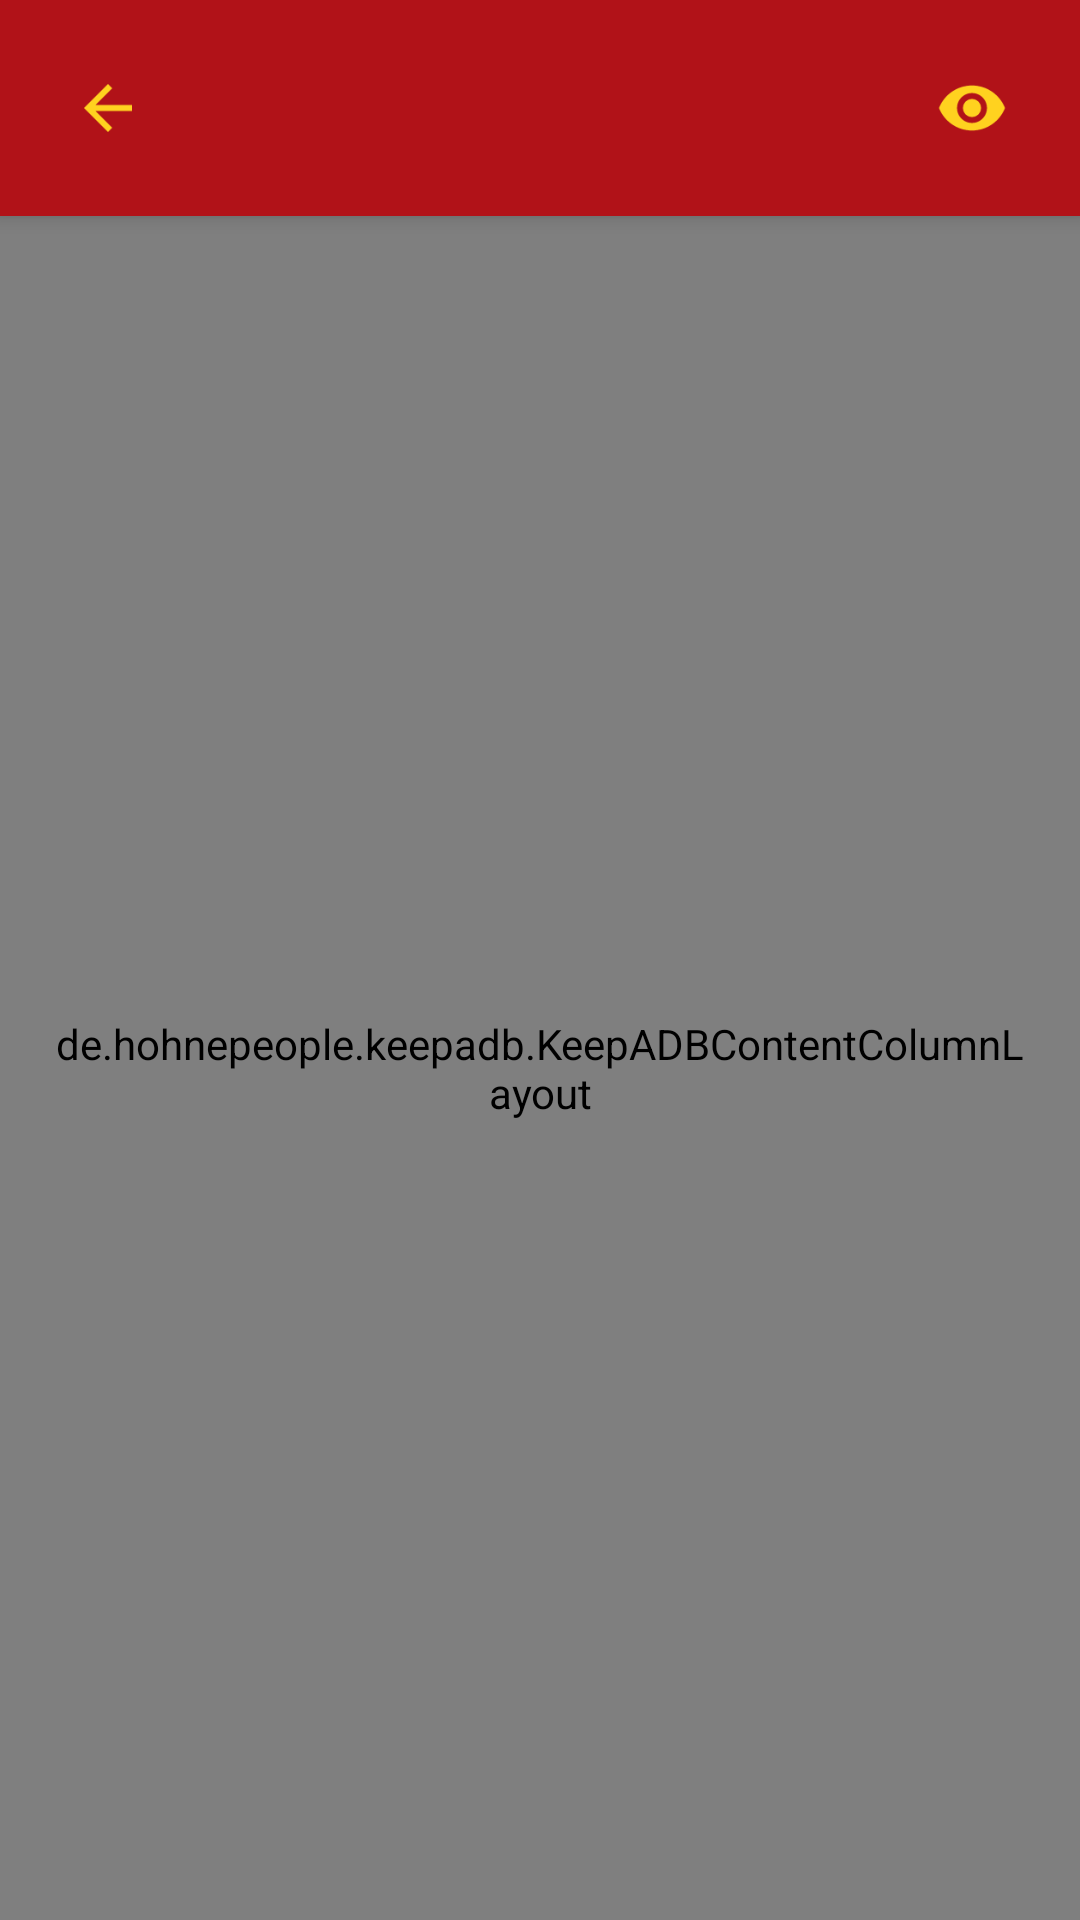

Point at icon controls on the screen. Image size 1080 × 1920, points as [x,y].
Back: [108,108]
Details are shown on this screen: [972,108]
